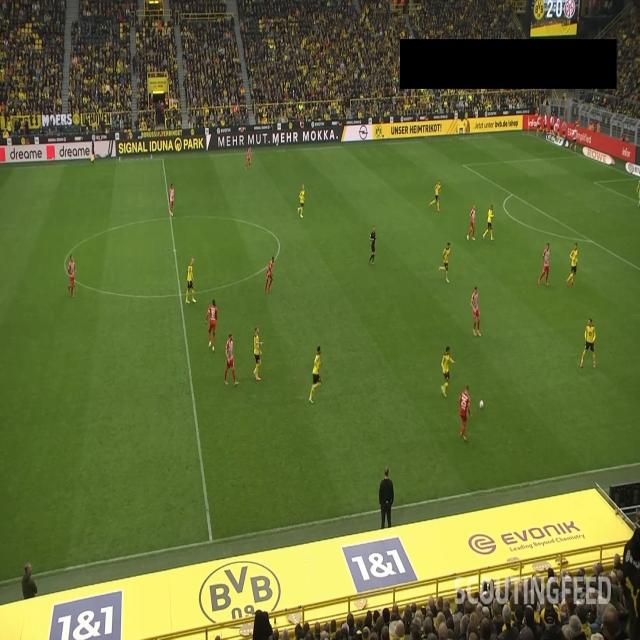ball: (478, 399, 484, 410)
